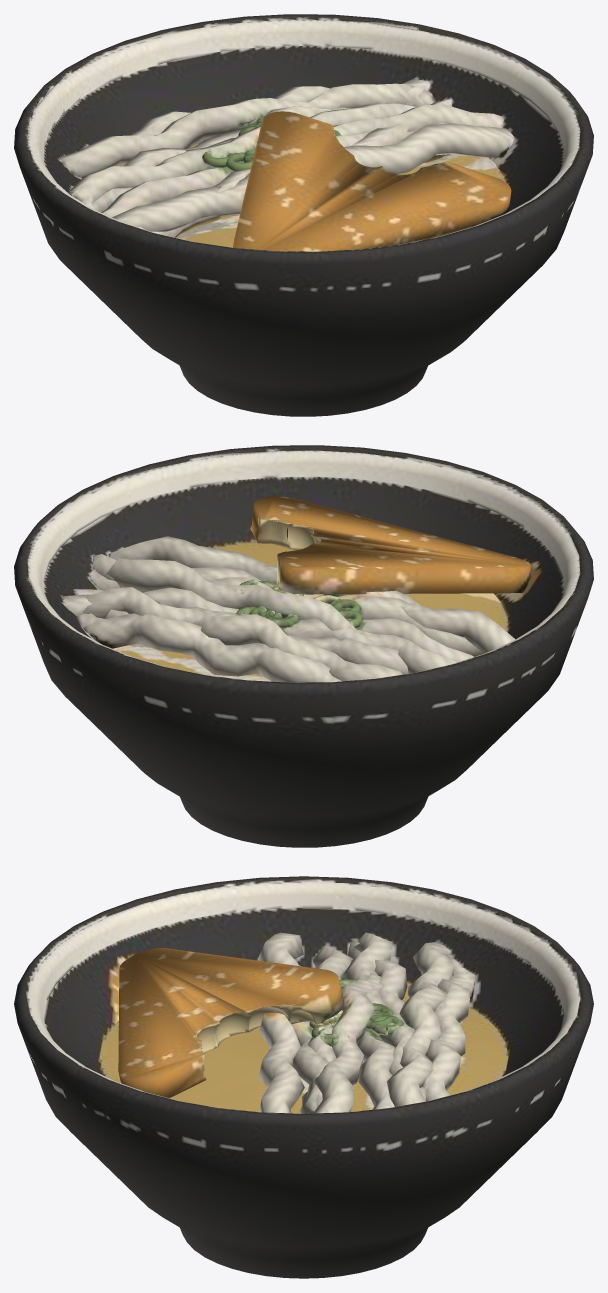
File: udon_b1.glb
3 views of the same model, one above another, from view 1: azimuth 30°, elevation 25°; view 2: azimuth 150°, elevation 25°; view 3: azimuth 270°, elevation 25° (orthographic).
Visible parts, largest first — view 1: prop_udon_b1_felt; view 2: prop_udon_b1_felt; view 3: prop_udon_b1_felt.
Part boxes in pixels (<box>): prop_udon_b1_felt: <box>14,14,593,416</box>; prop_udon_b1_felt: <box>14,445,593,847</box>; prop_udon_b1_felt: <box>14,876,593,1278</box>.
Size of the model in its own units: 0.3018 by 0.1395 by 0.3018.
Materials: 1 (1 with a texture image).
